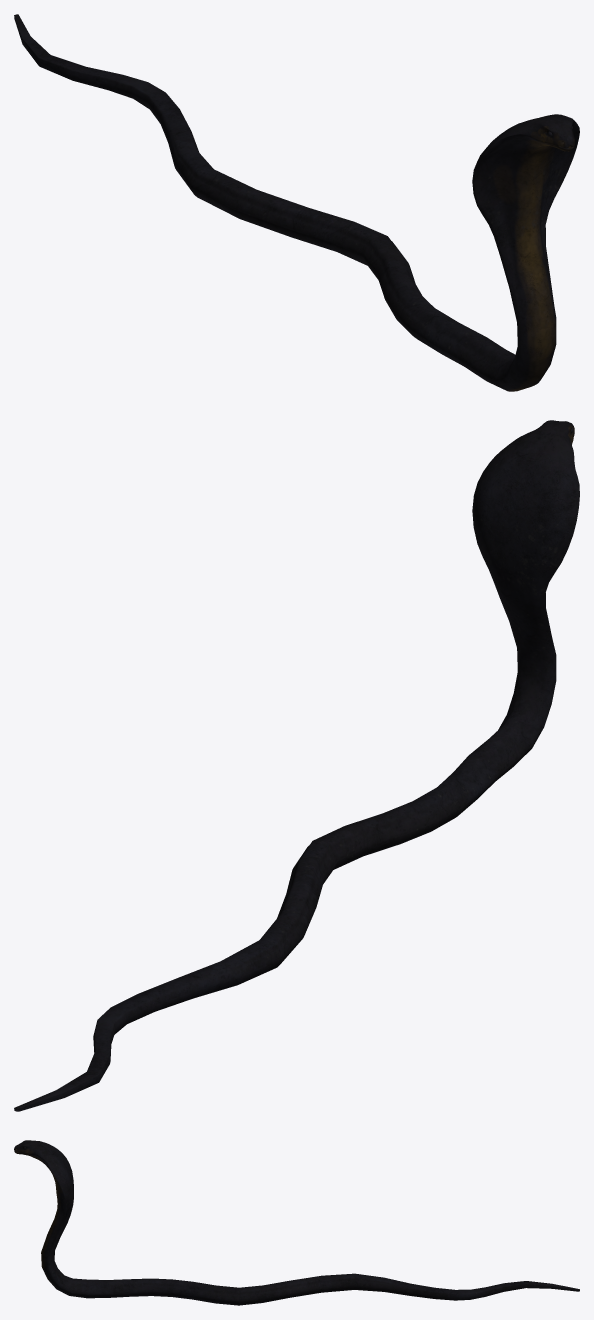
The model's file is Cobra(Naja).glb.
The picture shows the model from 3 angles, top to bottom: view 1: azimuth 30°, elevation 25°; view 2: azimuth 150°, elevation 25°; view 3: azimuth 270°, elevation 25°; orthographic projection. The views are drawn at different scales.
Parts seen in each view (by area): view 1: Object_3; view 2: Object_3; view 3: Object_3.
Part boxes in pixels (<box>): Object_3: <box>14,14,579,391</box>; Object_3: <box>14,420,579,1111</box>; Object_3: <box>14,1140,579,1305</box>.
Size of the model in its own units: 620 by 1741 by 5779.
2 materials, 2 textured.
